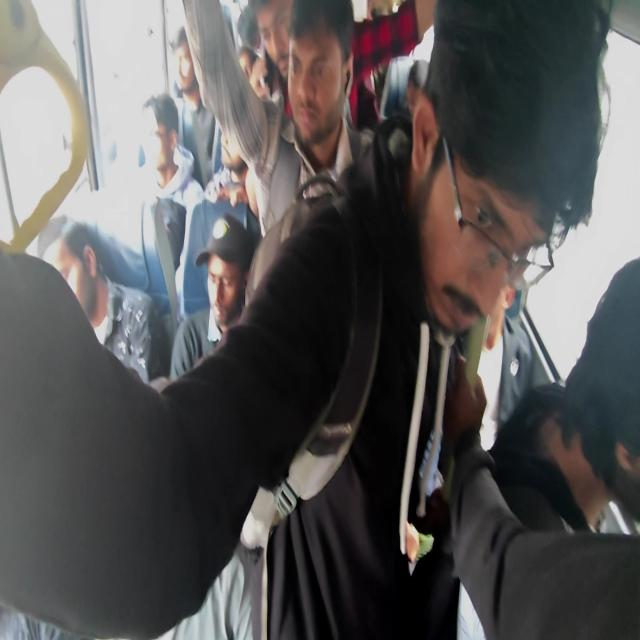person: (431, 66, 572, 299), (565, 295, 640, 521), (290, 7, 351, 135), (44, 221, 106, 332), (204, 228, 256, 327), (257, 3, 310, 88), (136, 103, 179, 197), (212, 112, 260, 188), (167, 36, 203, 103), (405, 61, 439, 126), (368, 2, 395, 46), (241, 43, 254, 81)
